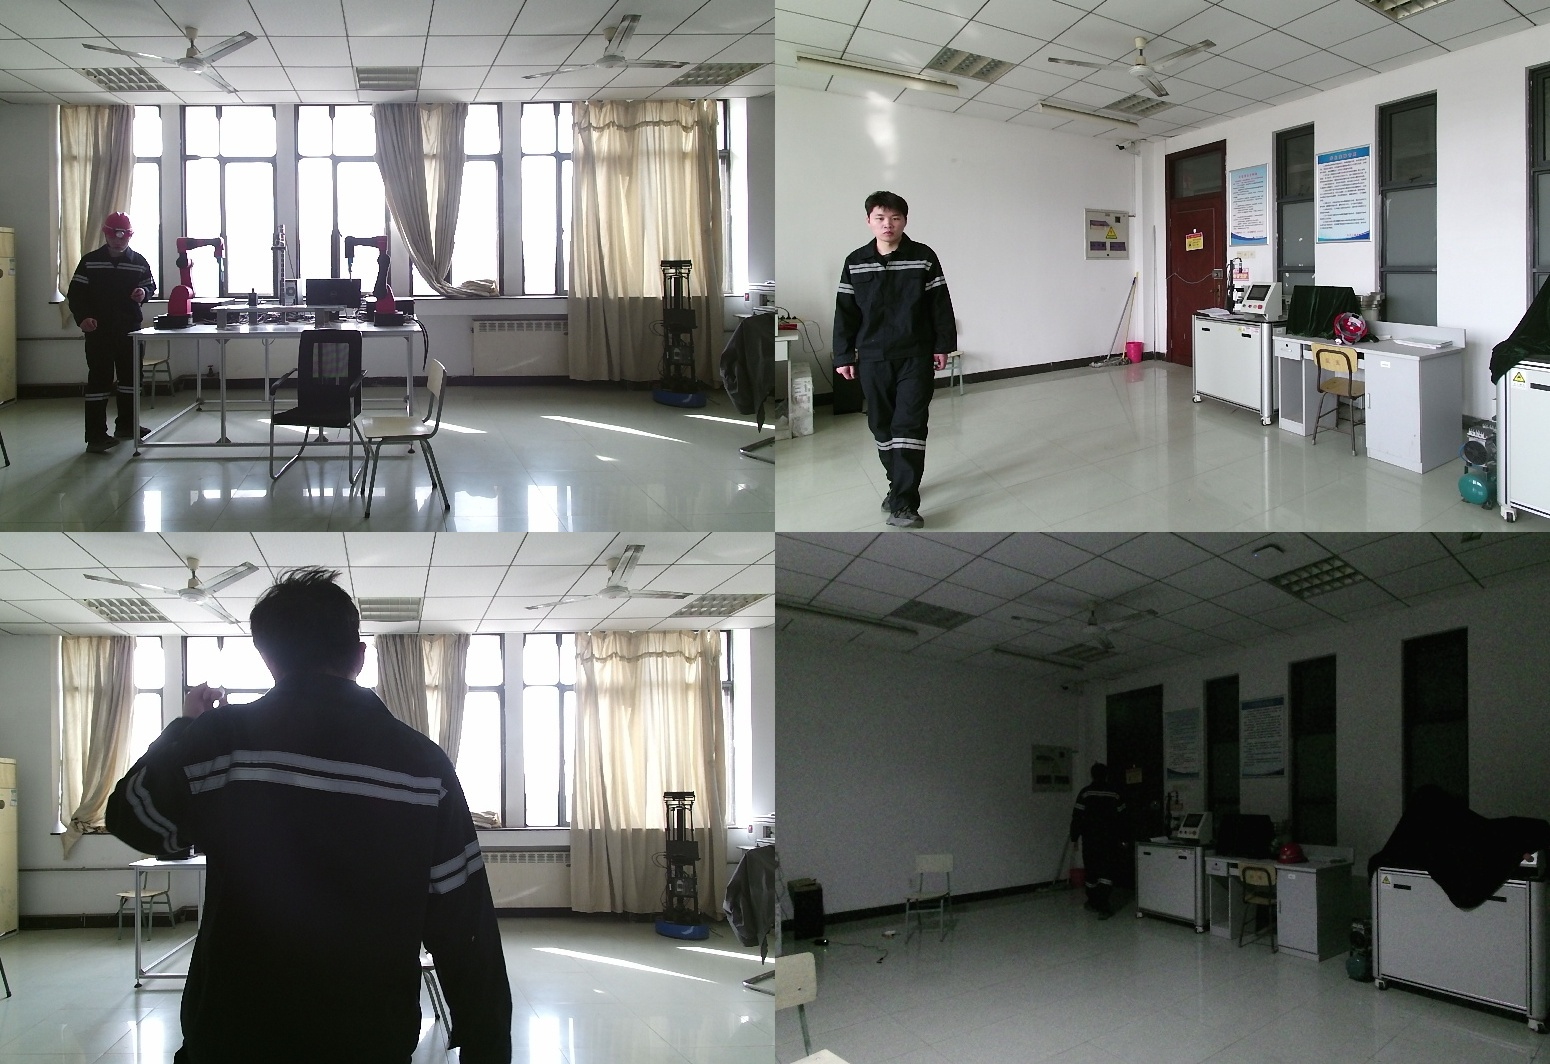person: (112, 573, 511, 1064), (830, 188, 964, 532), (61, 212, 159, 452), (1070, 765, 1134, 926)
